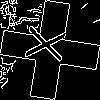X: (25, 25, 76, 65)
